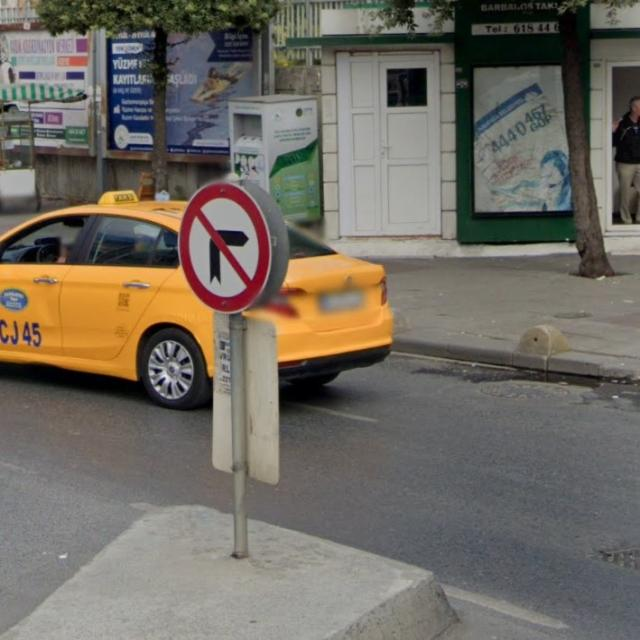sagadonulmez: (176, 184, 272, 315)
